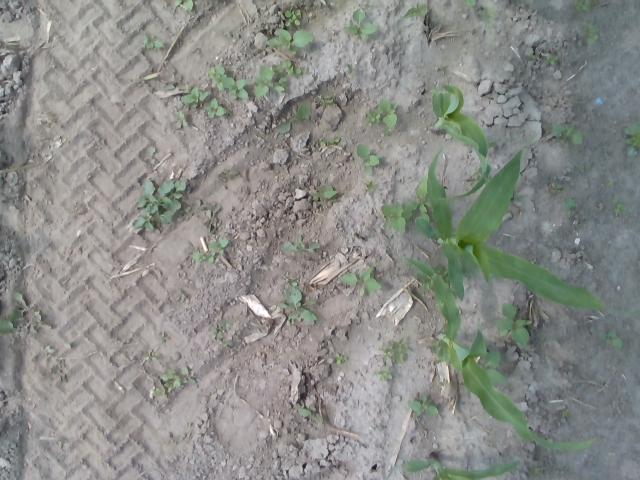Maize: (426, 132, 640, 318), (401, 252, 597, 454), (428, 83, 490, 201), (401, 451, 521, 480)
Weeds: (134, 176, 188, 232), (380, 176, 430, 234), (489, 302, 533, 350), (0, 292, 41, 336), (204, 64, 250, 100), (278, 286, 318, 326), (338, 266, 382, 296), (253, 63, 289, 99), (363, 98, 398, 135), (266, 28, 314, 54), (274, 103, 312, 134), (343, 8, 378, 40), (194, 198, 220, 234), (160, 365, 196, 390), (380, 336, 411, 365), (355, 142, 383, 174), (550, 122, 583, 147), (206, 318, 233, 348), (407, 394, 439, 418), (180, 84, 209, 108), (282, 235, 320, 253), (596, 328, 624, 350), (623, 121, 640, 157), (309, 184, 338, 205), (204, 98, 228, 120), (296, 406, 322, 424), (309, 136, 341, 150), (580, 22, 600, 44), (285, 60, 309, 77), (404, 1, 428, 18), (570, 0, 600, 13), (140, 34, 164, 50), (459, 261, 479, 280), (190, 250, 216, 264), (416, 271, 434, 291), (561, 197, 579, 217), (478, 7, 498, 25), (170, 110, 188, 130), (207, 237, 228, 254), (434, 264, 451, 284), (374, 365, 393, 382), (611, 196, 627, 215), (284, 10, 302, 26), (172, 0, 195, 10), (144, 348, 160, 362), (528, 466, 543, 480), (148, 386, 167, 397), (542, 54, 559, 66), (334, 351, 348, 365), (284, 276, 300, 288), (362, 180, 377, 192), (512, 192, 525, 204), (320, 95, 334, 106), (436, 379, 448, 391), (224, 169, 238, 179), (164, 80, 177, 90), (428, 341, 439, 352), (462, 0, 478, 7), (558, 408, 570, 417), (526, 52, 538, 60), (552, 182, 564, 190), (486, 140, 499, 147), (604, 178, 614, 187), (348, 63, 356, 73), (580, 166, 584, 171)
